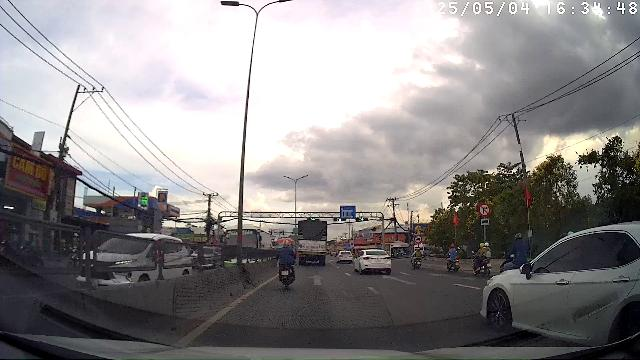123b-cam-re-phai: (478, 203, 490, 217)
